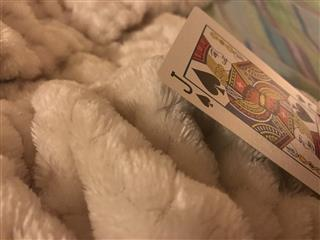JackOfSpades: (157, 5, 320, 194)
